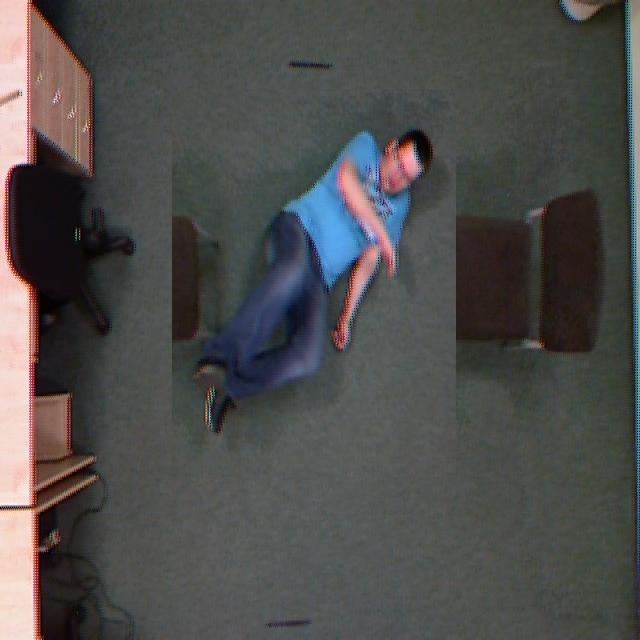Fall: (141, 120, 440, 434)
